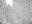person: (6, 1, 12, 9)
